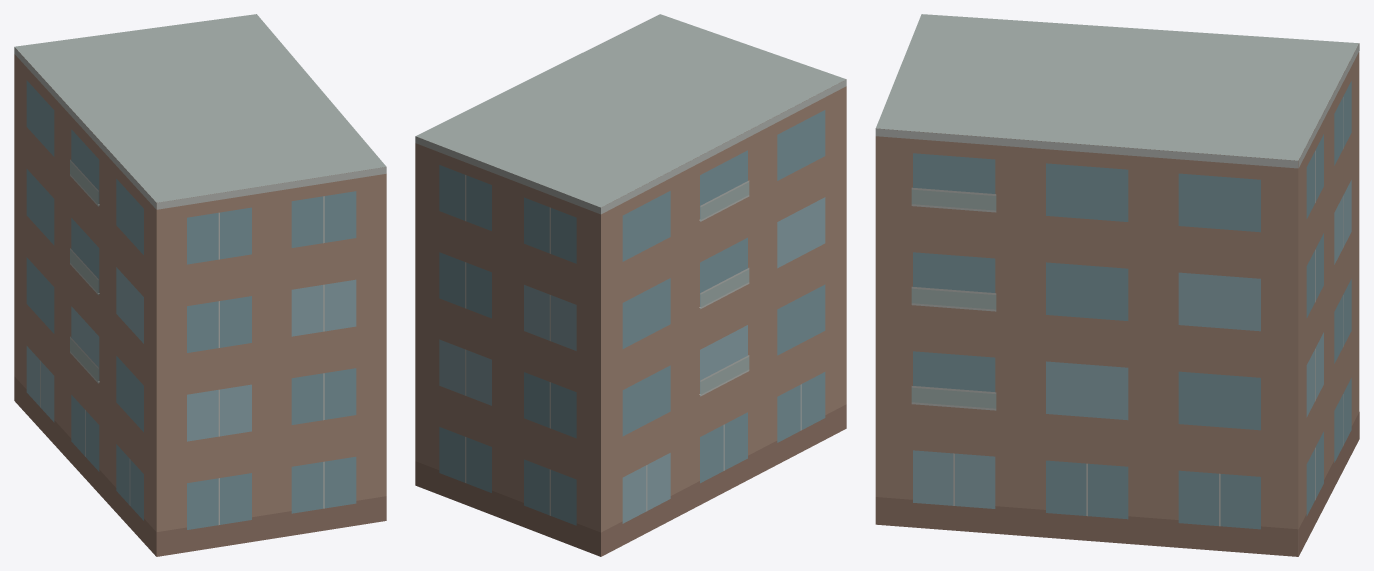
Rendered from survey-upis-32646402.glb.
The picture shows the model from 3 angles, left to right: view 1: azimuth 30°, elevation 25°; view 2: azimuth 150°, elevation 25°; view 3: azimuth 270°, elevation 25°; orthographic projection. The views are drawn at different scales.
Parts seen in each view (by area): view 1: survey-upis-32646402.tmp; view 2: survey-upis-32646402.tmp; view 3: survey-upis-32646402.tmp.
Part boxes in pixels (bbox=[...]): survey-upis-32646402.tmp: bbox=[14, 14, 386, 556]; survey-upis-32646402.tmp: bbox=[415, 14, 846, 556]; survey-upis-32646402.tmp: bbox=[875, 14, 1359, 556].
Bounding box in the file's own units: 9.86 × 12.4 × 13.73.
